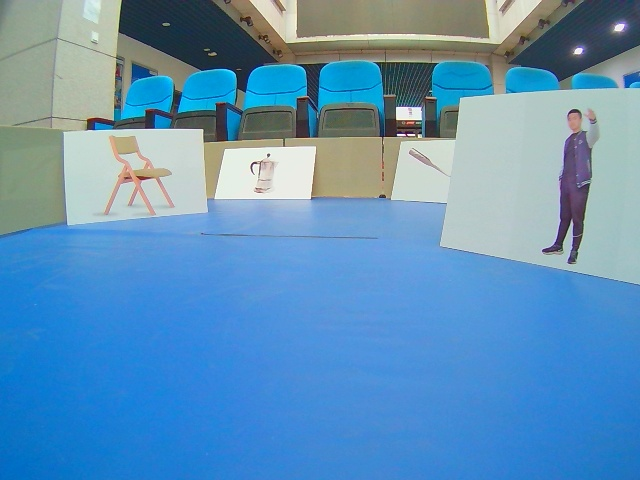dish: (214, 145, 317, 202)
person: (439, 89, 640, 287)
table: (62, 130, 210, 226)
